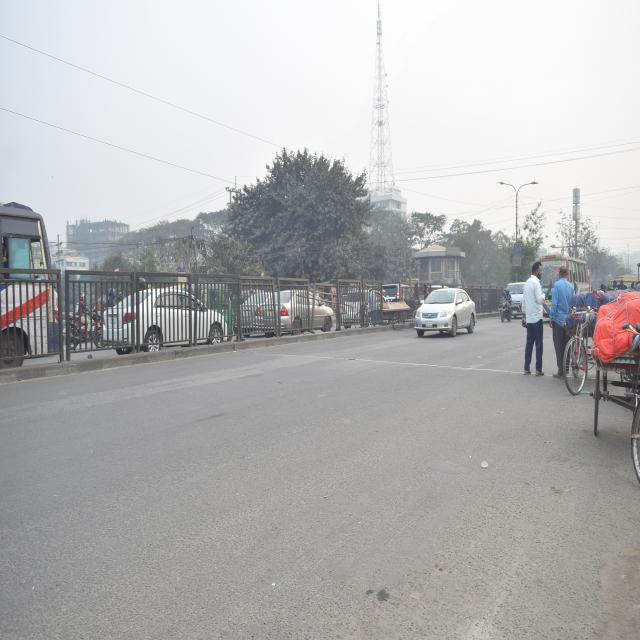bus: (2, 194, 82, 370), (540, 246, 590, 314)
car: (102, 272, 234, 371), (253, 276, 333, 351), (413, 279, 485, 348), (340, 276, 394, 331)
motorbike: (499, 290, 515, 334)
